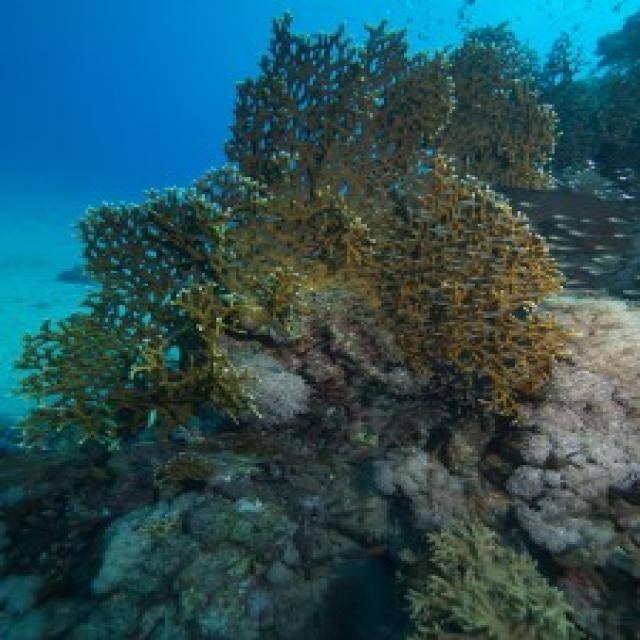Bleached: (493, 300, 638, 566)
Healthy: (24, 172, 317, 438), (359, 157, 561, 417), (226, 16, 467, 199), (81, 494, 297, 639), (408, 522, 581, 639), (442, 27, 559, 184)
